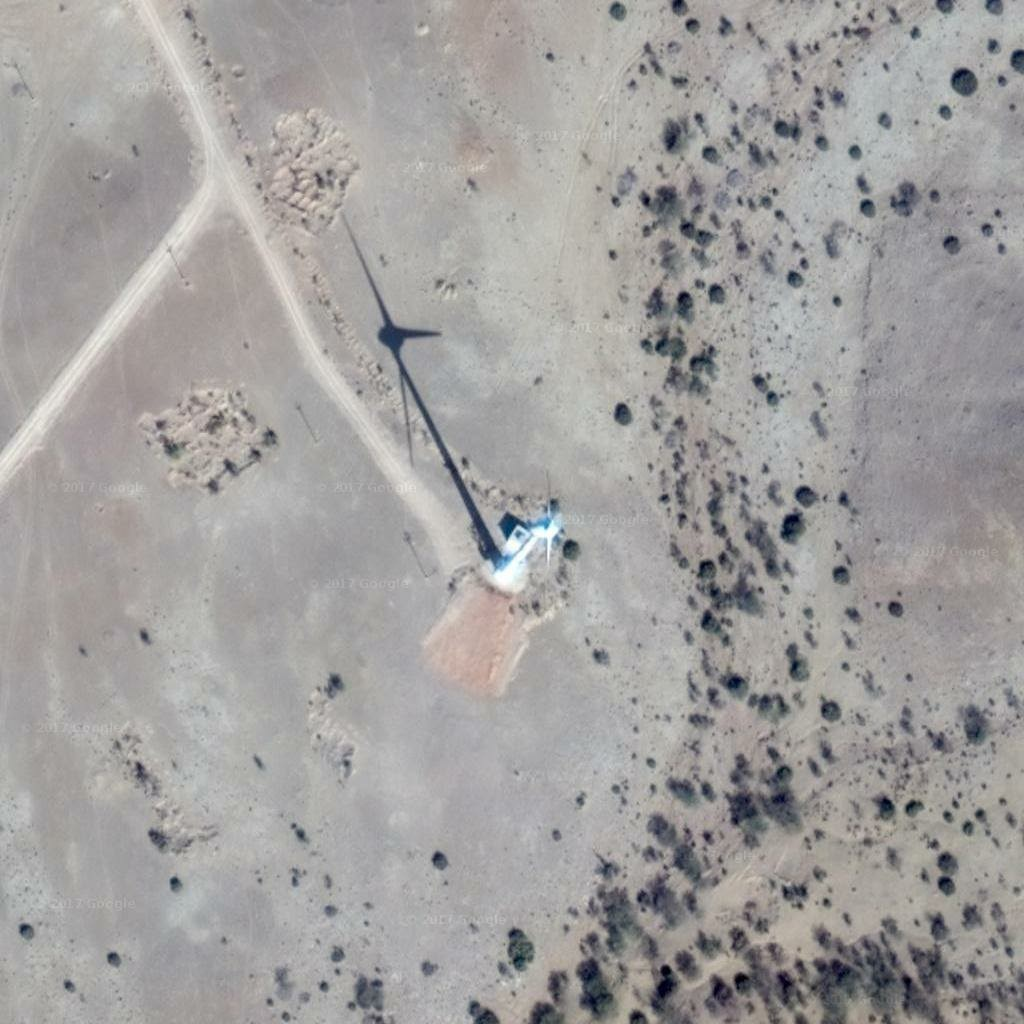Windmill: (336, 224, 516, 559)
